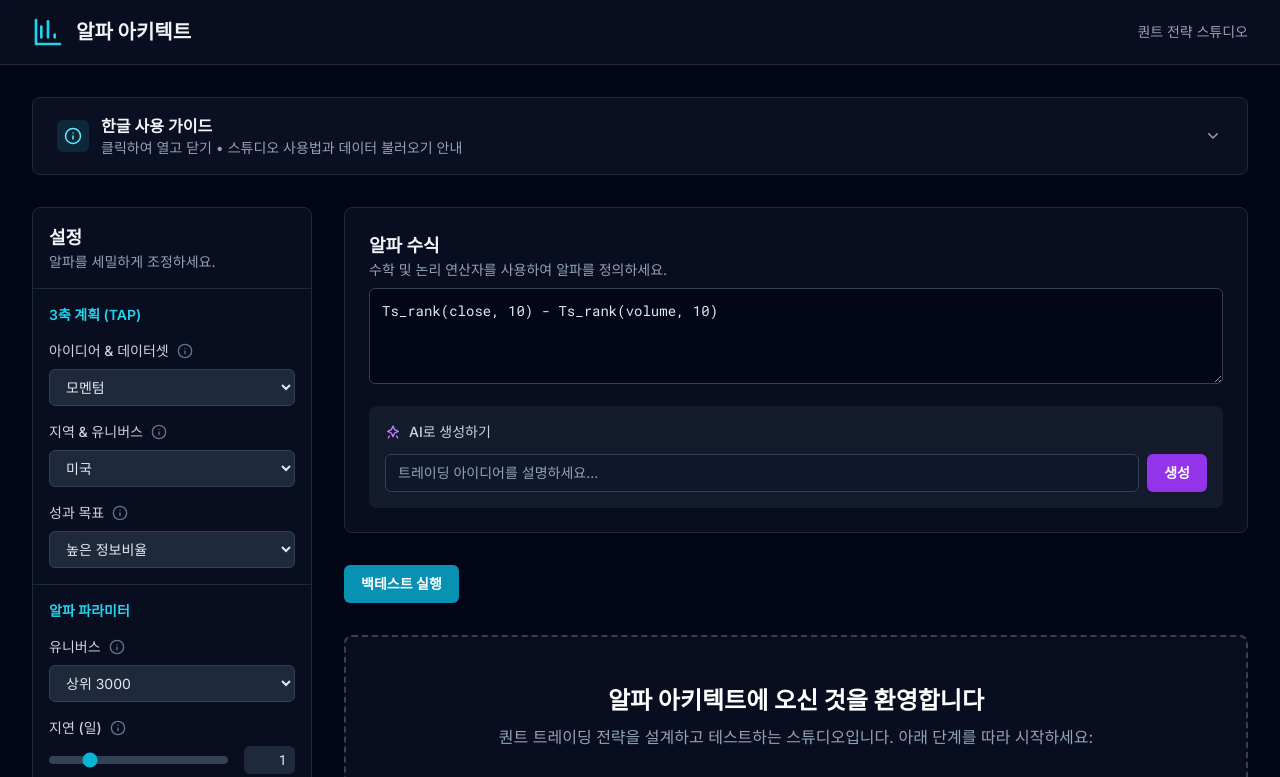
Test: App › should display error when backtest fails
Click the button "백테스트 실행" at (401, 584), box left=344, top=565, right=459, bottom=603
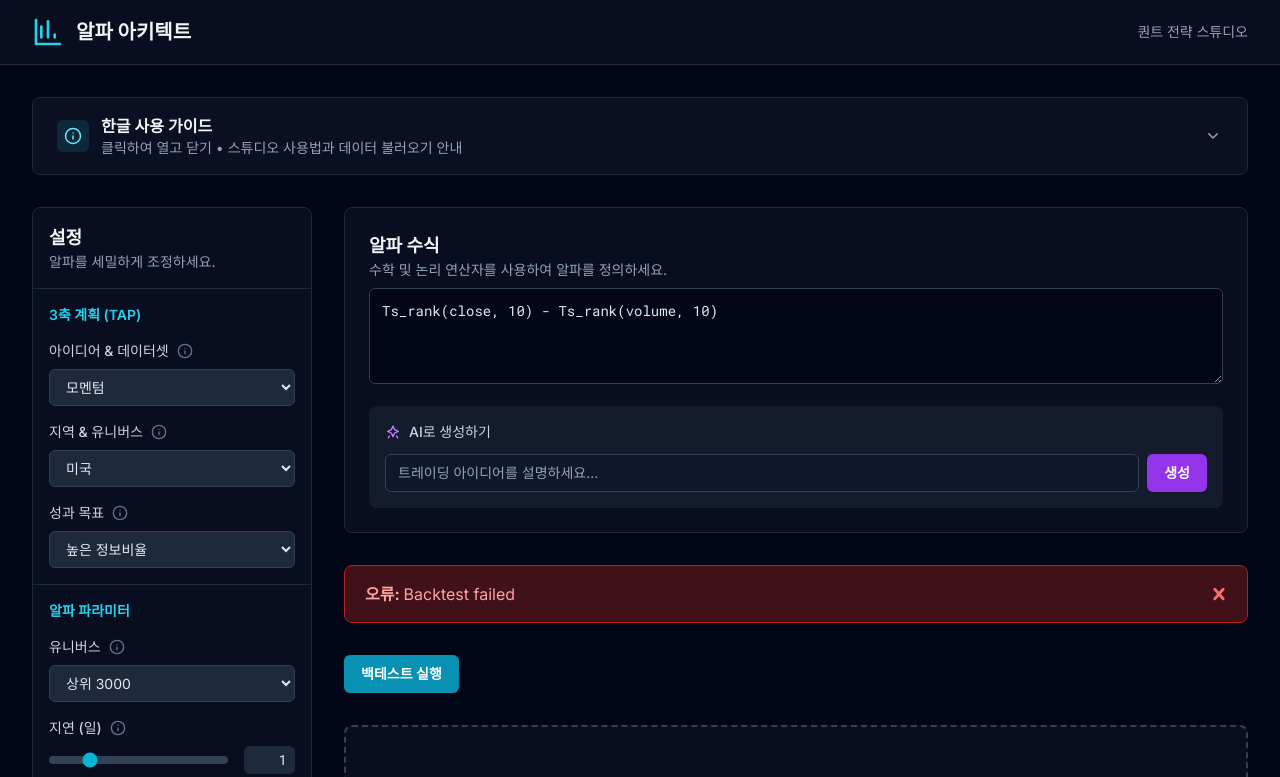
Expected: the message "오류: Backtest failed" is shown, left=344, top=565, right=1248, bottom=623
